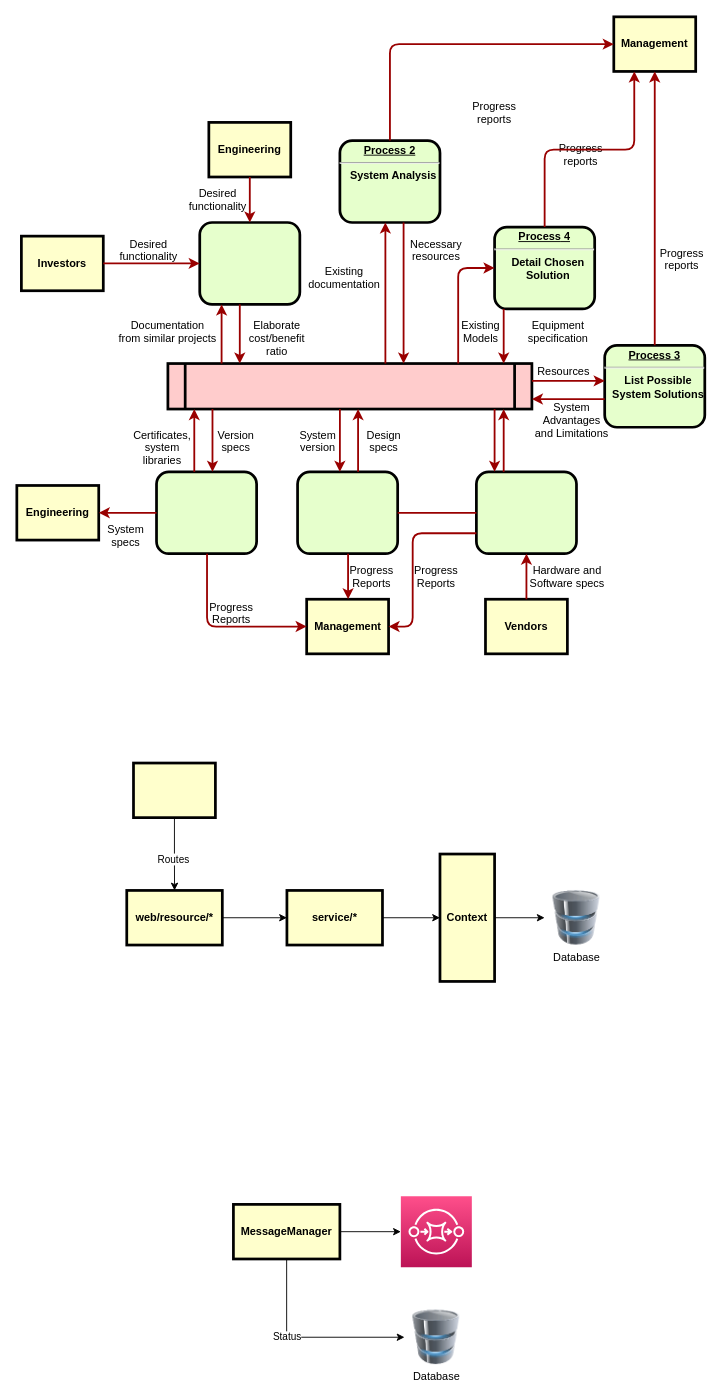
The diagram is 722 pixels wide and 1400 high, and some of its shapes have lost their labels. The shapes that lost their labels are listed below. From the top down, each one's centre as x and y in pixels, then its label:
At (x=249, y=263): "Process 1 System Study Preparation".
At (x=349, y=386): "ON-DEMAND SYSTEM DEVELOPMENT".
At (x=206, y=512): "Process 6 New System Construction".
At (x=347, y=512): "Process 7 New System Startup and Testing".
At (x=526, y=512): "Process 5 New System Design".
At (x=174, y=790): "App.java".
At (x=436, y=1231): "SQS".
